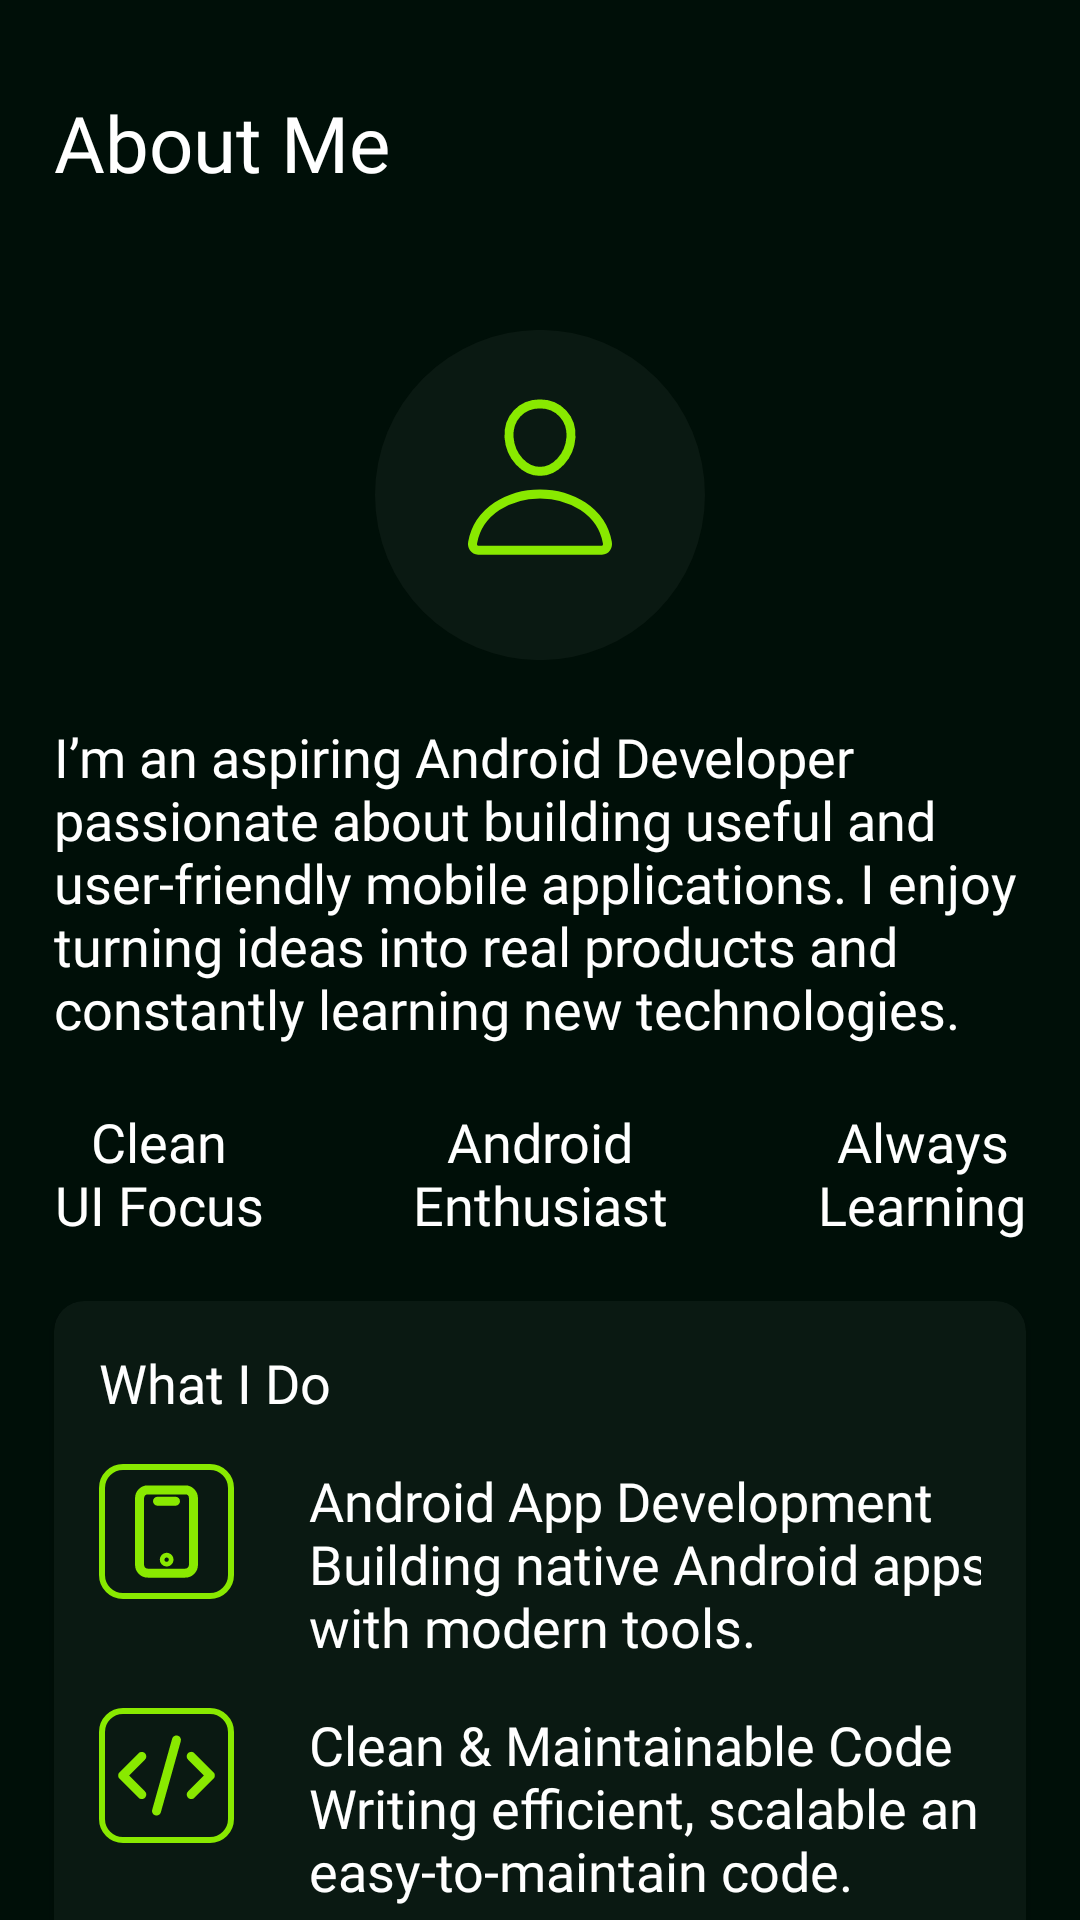

Icons on this 1080 × 1920 Android screen, each with the point to tap as (x,y):
mobile: (166,1531)
person: (540,495)
